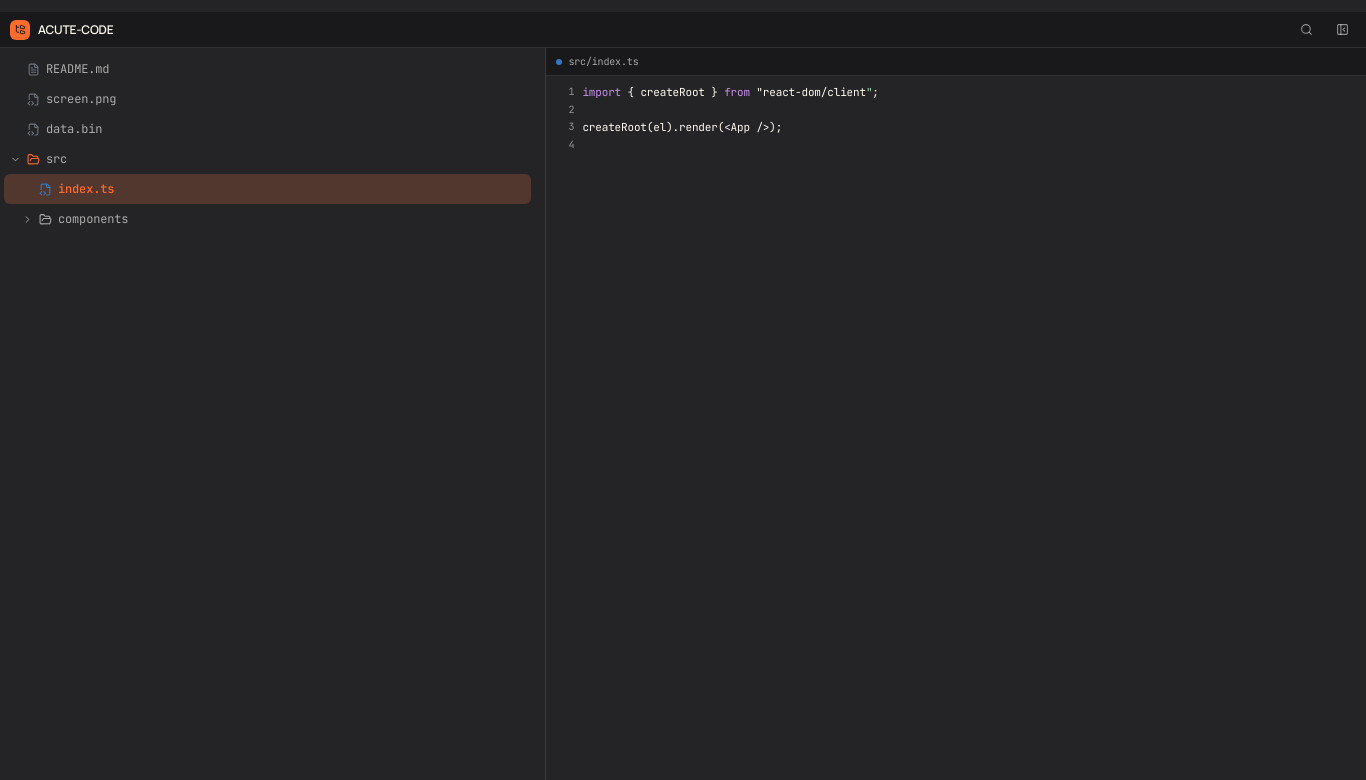
Test case: FilesExplorerPanel (ROUND-48 R48-c) › file load failure shows the honest error card and Retry refetches
Click the button "README.md": (78, 69) left=4, top=54, right=531, bottom=84
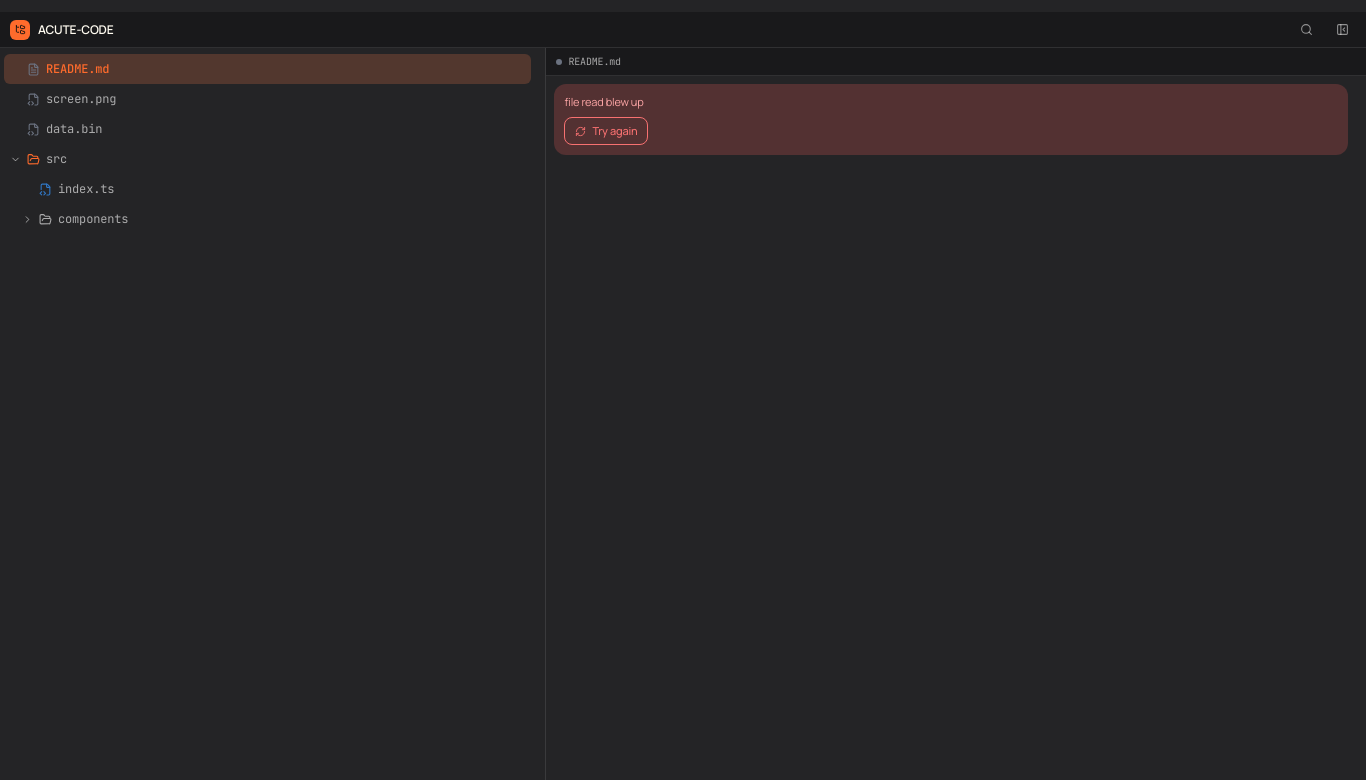
Expected: the text "file read blew up" is shown, left=564, top=94, right=644, bottom=109
Click the button "Try again": (606, 131) left=564, top=117, right=648, bottom=145
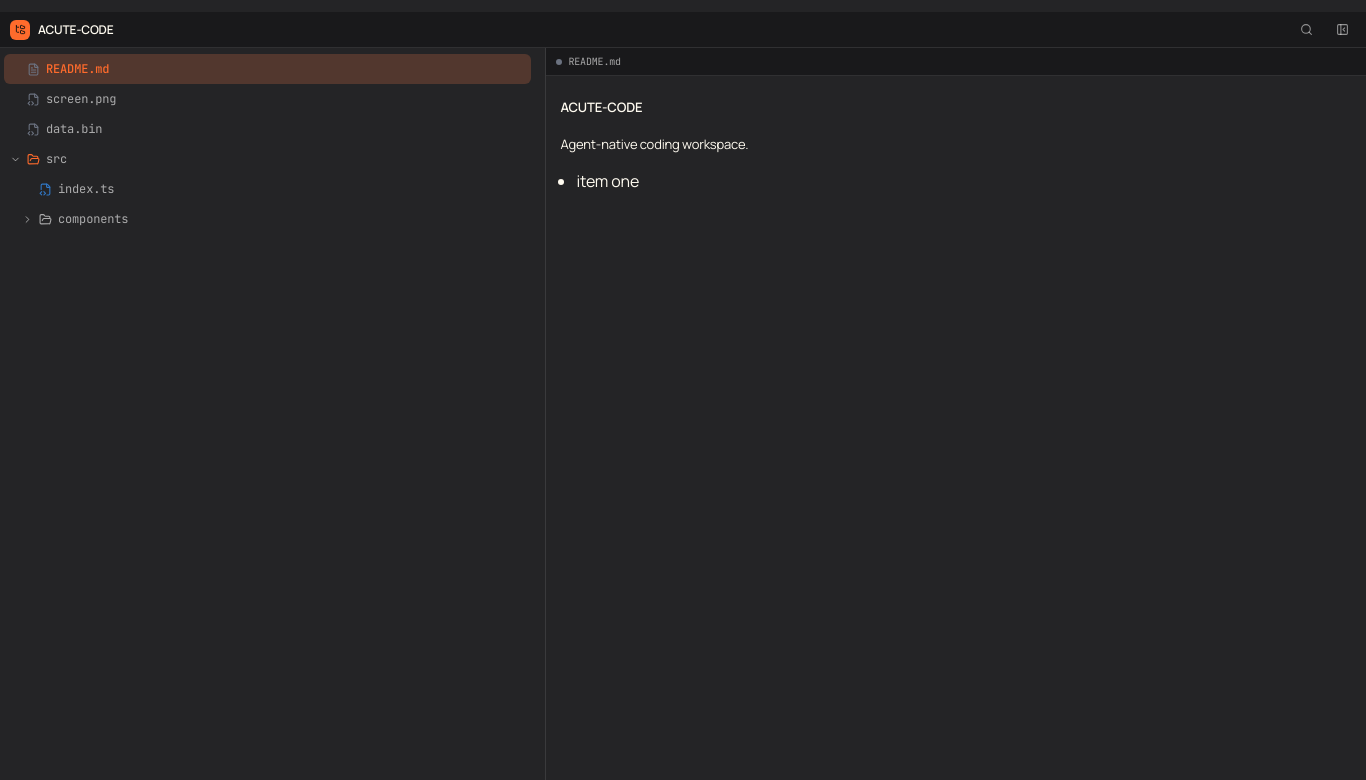
Expected: the text "Agent-native coding workspace." is shown, left=560, top=134, right=748, bottom=152
